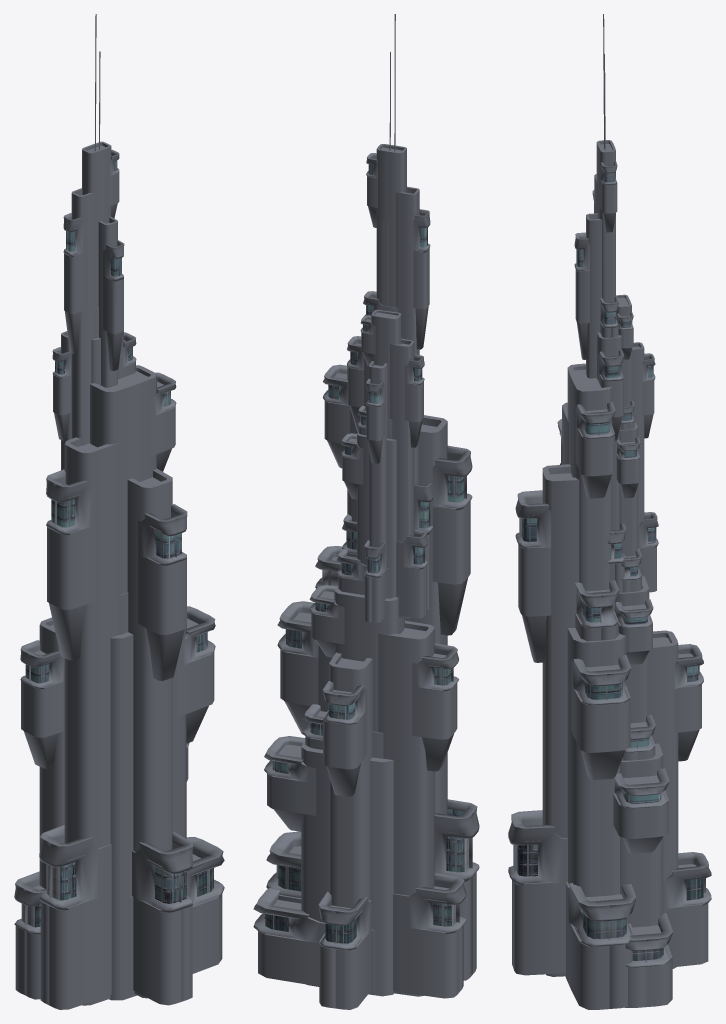
The picture shows the model from 3 angles, left to right: view 1: azimuth 30°, elevation 25°; view 2: azimuth 150°, elevation 25°; view 3: azimuth 270°, elevation 25°; orthographic projection. The views are drawn at different scales.
Visible parts, largest first — view 1: tri_colonial_sector; view 2: tri_colonial_sector; view 3: tri_colonial_sector.
Part boxes in pixels (box(x1,y1,x2,y2)): tri_colonial_sector: box(14, 14, 224, 1009); tri_colonial_sector: box(253, 14, 479, 1009); tri_colonial_sector: box(508, 14, 711, 1009).
Size of the model in its own units: 60.53 by 287 by 56.03.
